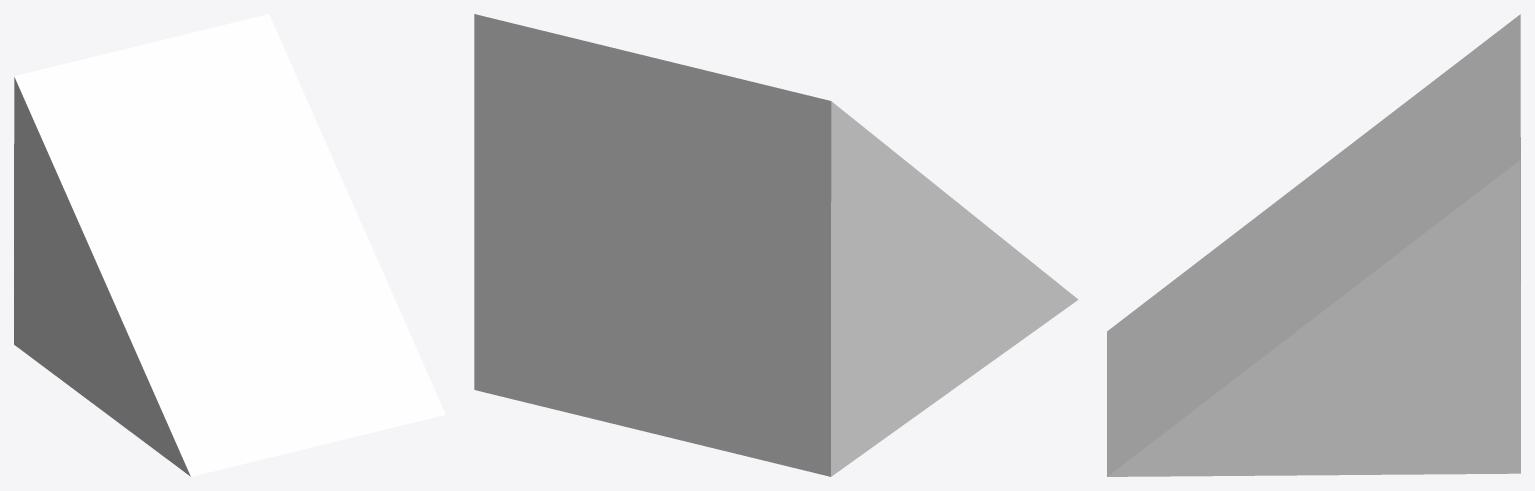
Rendered from Ramp90.fbx.
3 renders of one model, left to right at view 1: azimuth 30°, elevation 25°; view 2: azimuth 150°, elevation 25°; view 3: azimuth 270°, elevation 25°, orthographic. The views are drawn at different scales.
Parts seen in each view (by area): view 1: node_id5; view 2: node_id5; view 3: node_id5.
Part boxes in pixels (bbox=[...]): node_id5: bbox=[14, 14, 445, 476]; node_id5: bbox=[474, 14, 1078, 476]; node_id5: bbox=[1107, 14, 1520, 476].
Bounding box in the file's own units: 0.5033 × 0.512 × 0.6051.
Materials: 1 (1 with a texture image).
